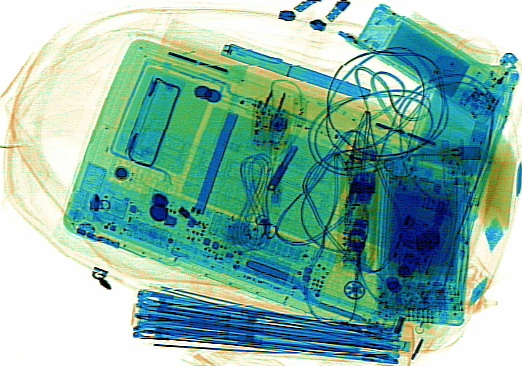lighter: (470, 50, 518, 109)
